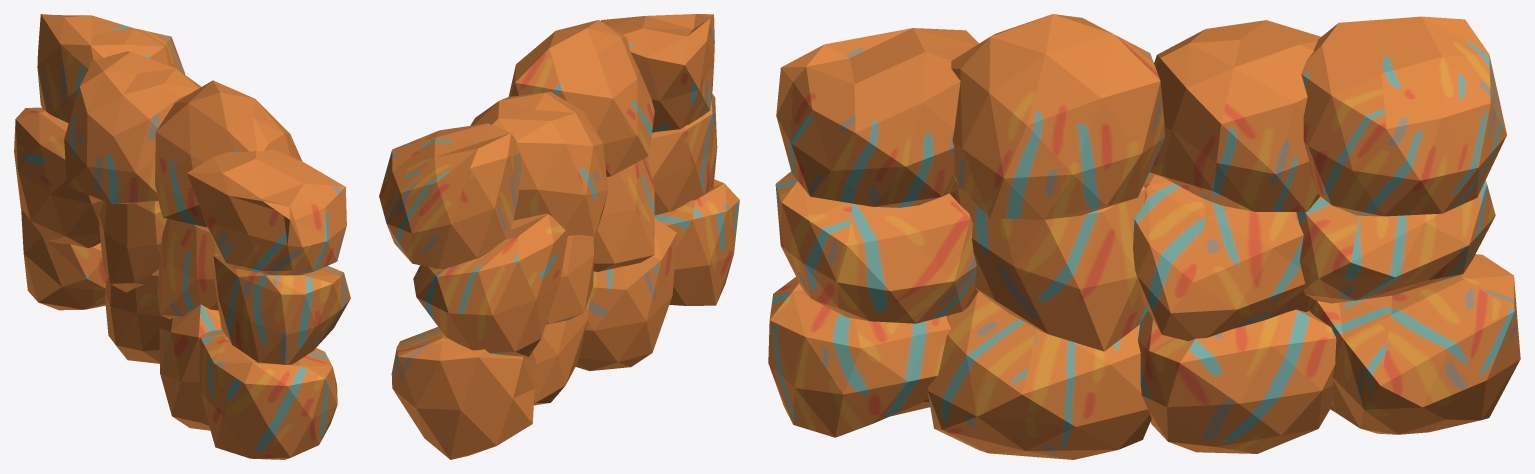
The model's file is level 2 breakable wall 3.fbx.
3 views of the same model, side by side, from view 1: azimuth 30°, elevation 25°; view 2: azimuth 150°, elevation 25°; view 3: azimuth 270°, elevation 25° (orthographic). The views are drawn at different scales.
Visible parts, largest first — view 1: BreakableWall_03; view 2: BreakableWall_03; view 3: BreakableWall_03.
Part boxes in pixels (left/top/right/bottom): BreakableWall_03: left=14, top=14, right=350, bottom=459; BreakableWall_03: left=379, top=14, right=739, bottom=459; BreakableWall_03: left=768, top=14, right=1520, bottom=459.
Size of the model in its own units: 1.35 by 2.73 by 4.09.
1 material, 1 textured.
